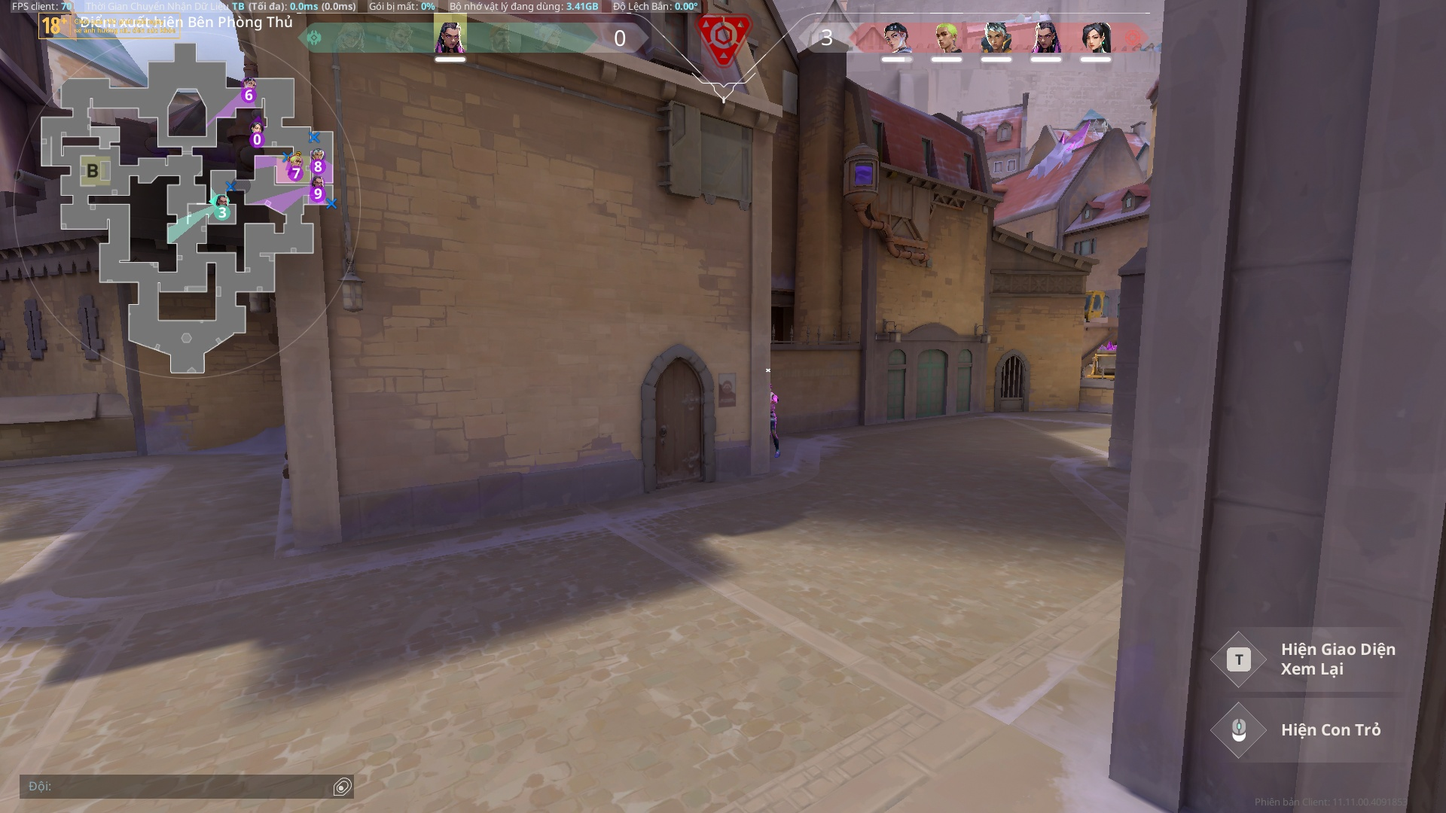body: (769, 391, 777, 420)
